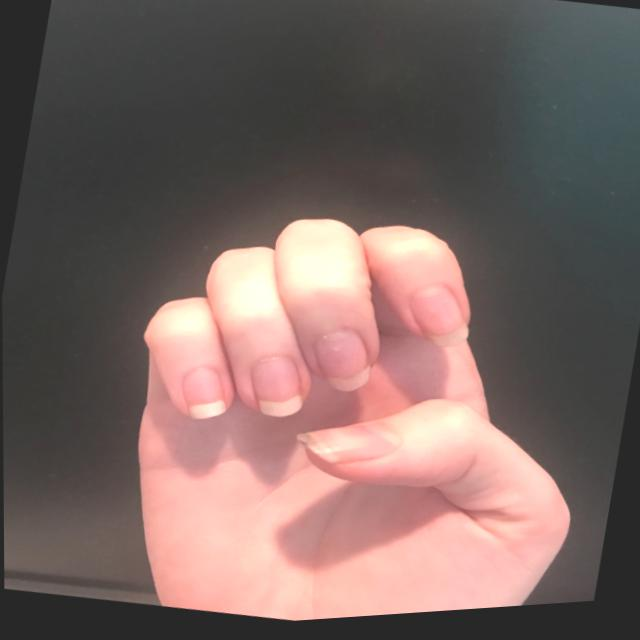E: (82, 168, 627, 635)
